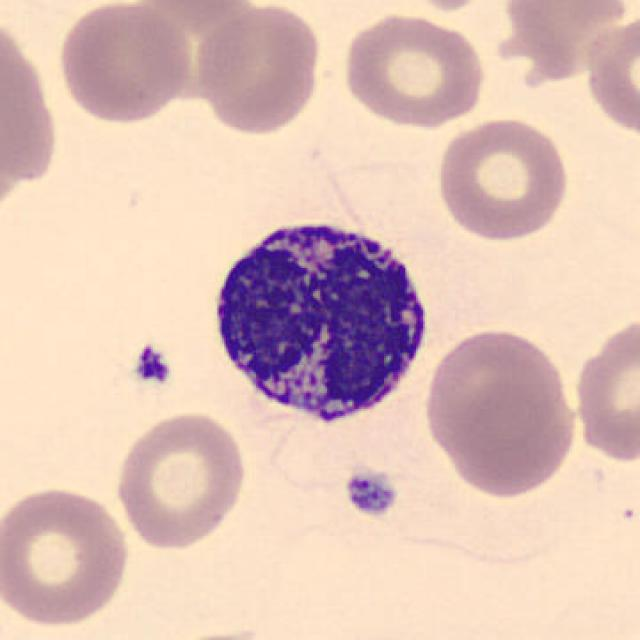Basophil: (201, 201, 439, 437)
Platelets: (341, 468, 400, 518), (130, 342, 174, 390)
RBC: (420, 322, 578, 493), (110, 407, 251, 554), (0, 482, 135, 630), (190, 0, 326, 138), (338, 9, 489, 130), (432, 113, 572, 243), (54, 0, 195, 127), (0, 7, 64, 199), (504, 0, 631, 88), (569, 308, 638, 466), (582, 18, 640, 142), (119, 0, 273, 26), (388, 0, 502, 14)
